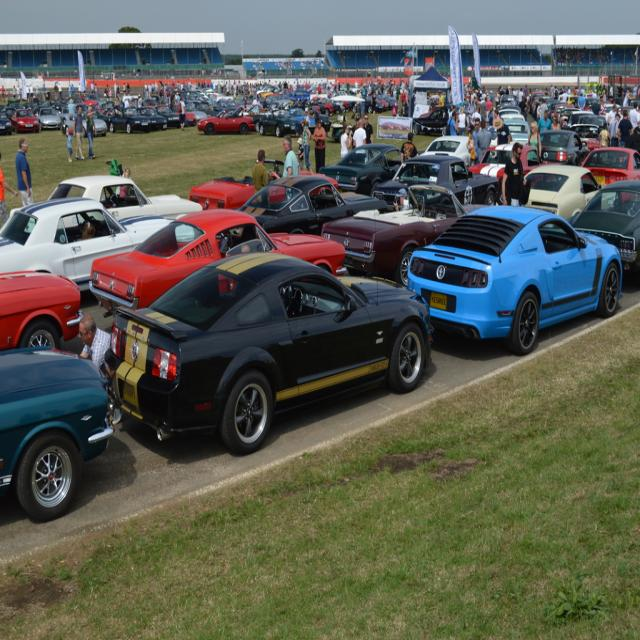car: (105, 242, 433, 449), (253, 103, 309, 138), (198, 113, 253, 128), (16, 105, 36, 128)
